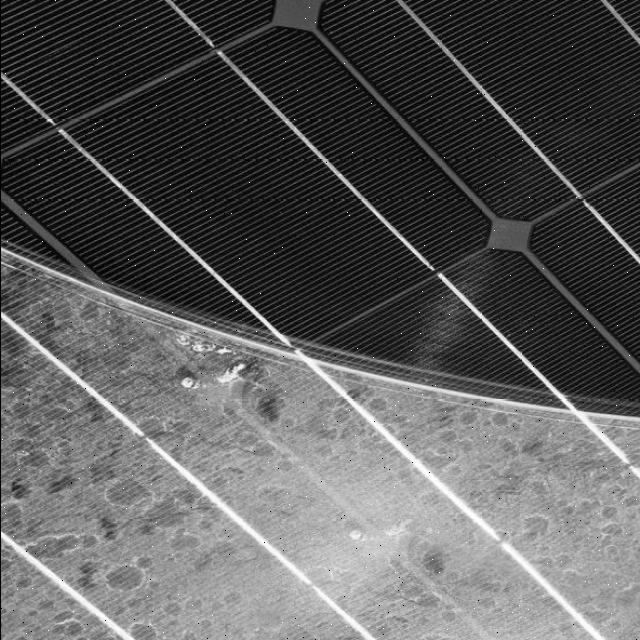Surface Contaminant: (0, 246, 640, 640)
